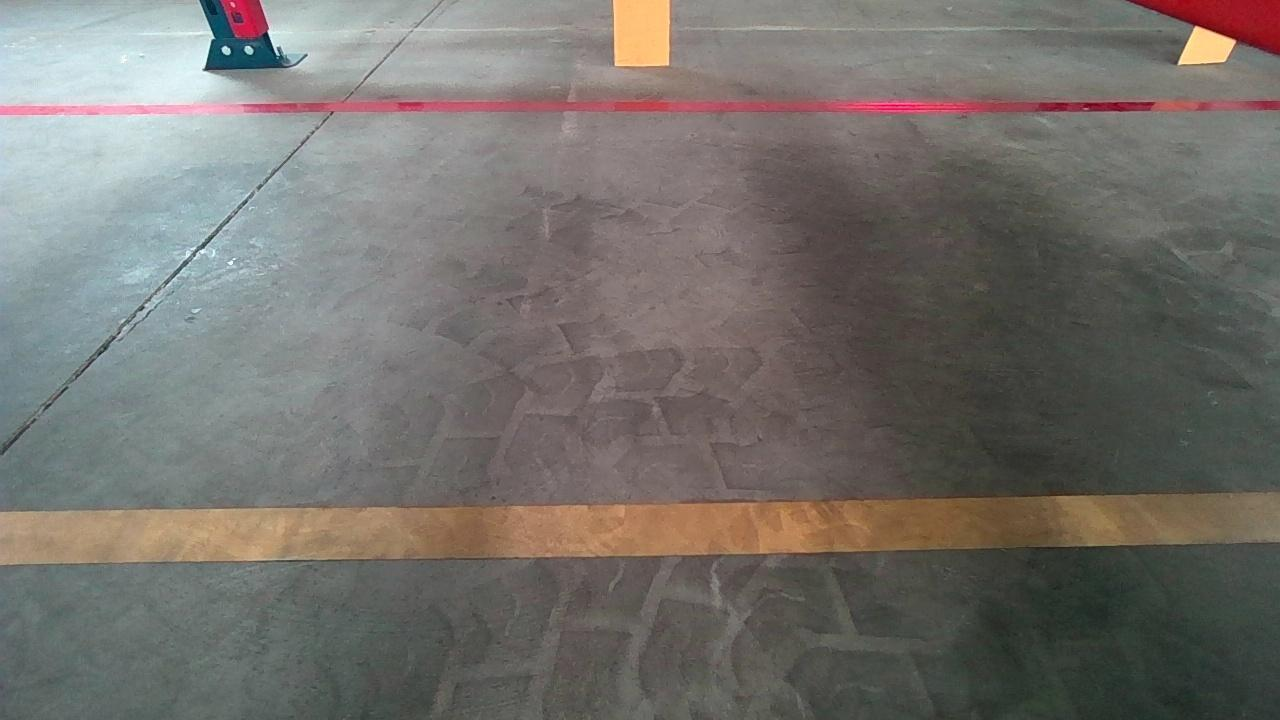red_line: (0, 100, 1280, 116)
yellow_line: (2, 489, 1277, 567)
